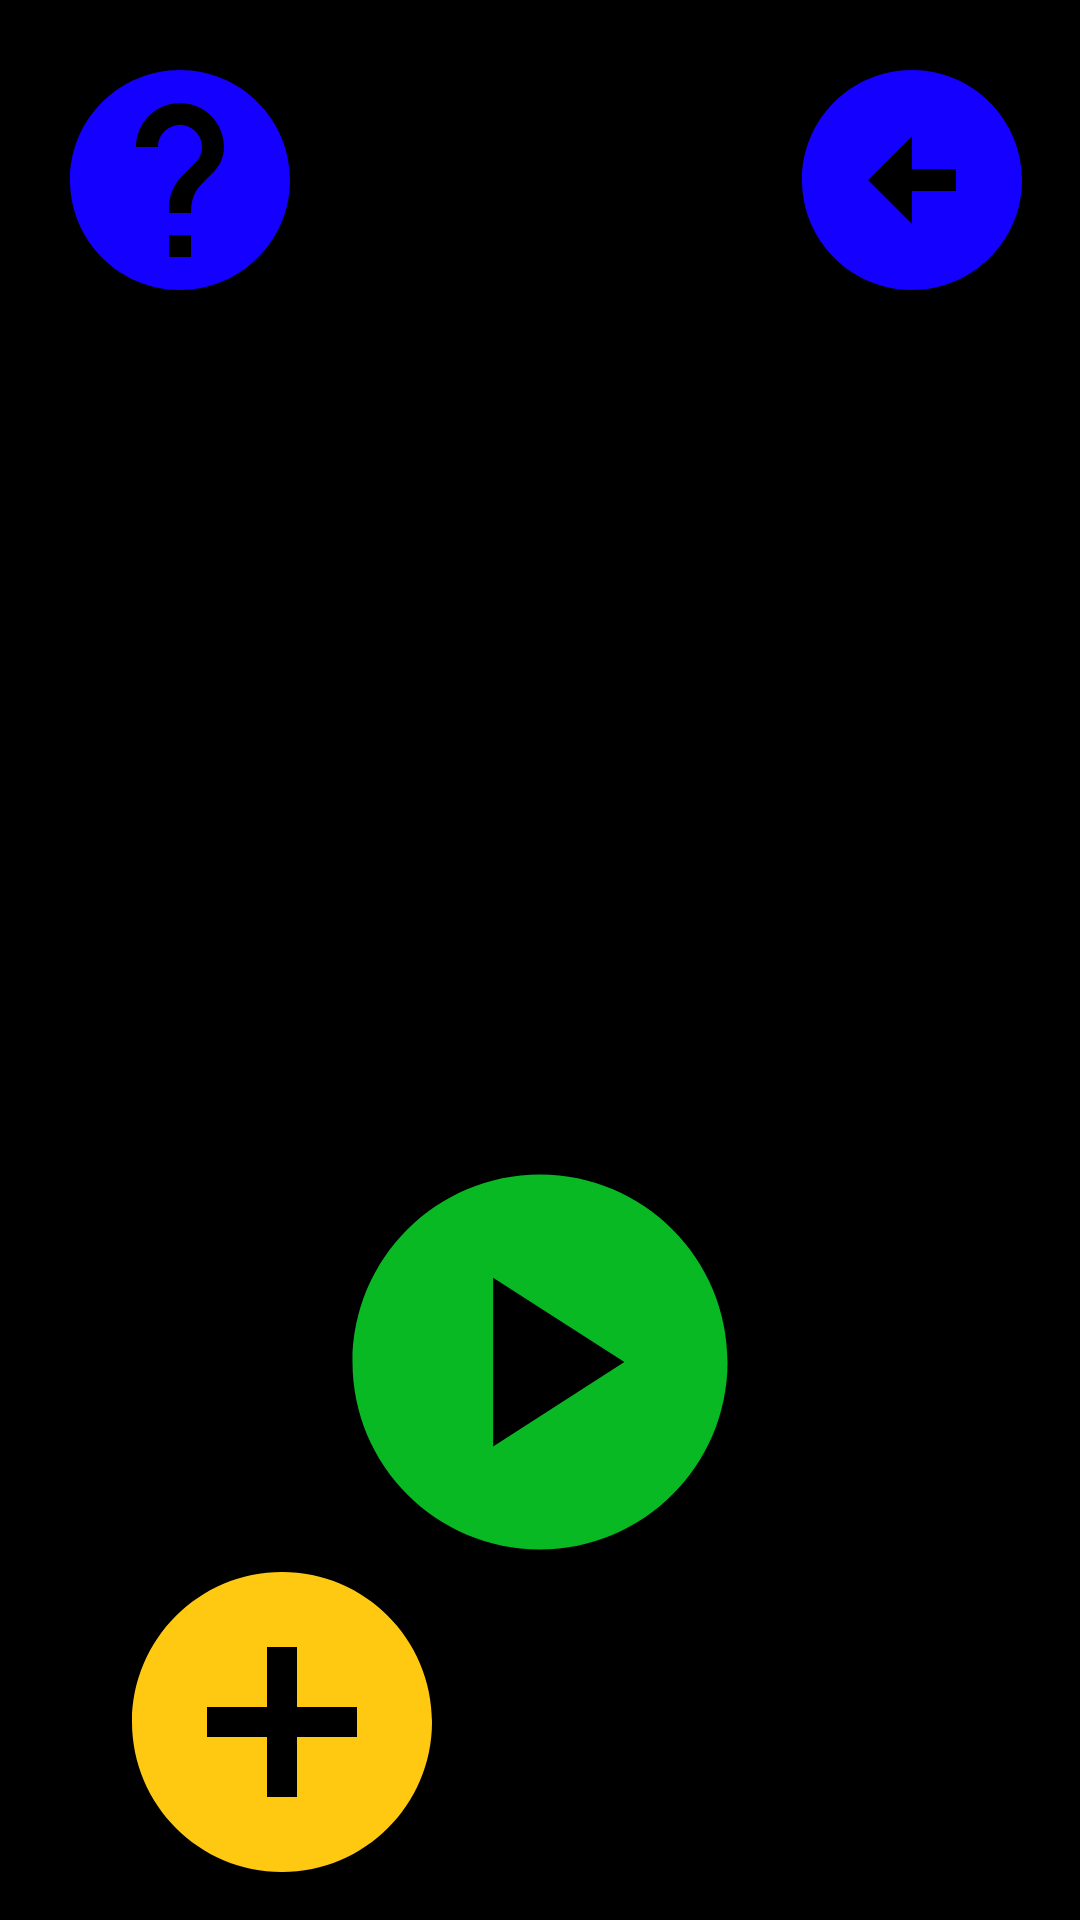

Icon bounding boxes for this 1080px x 1920px phone screenshot, format (x1, y1, x2, y2):
add note: (132, 1572, 432, 1872)
arrow: (801, 70, 1022, 290)
helper: (69, 70, 290, 290)
